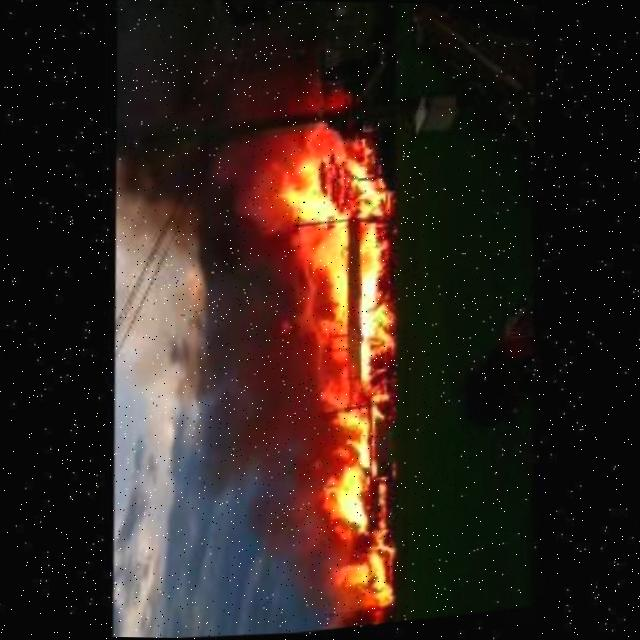fire: (236, 137, 421, 640)
